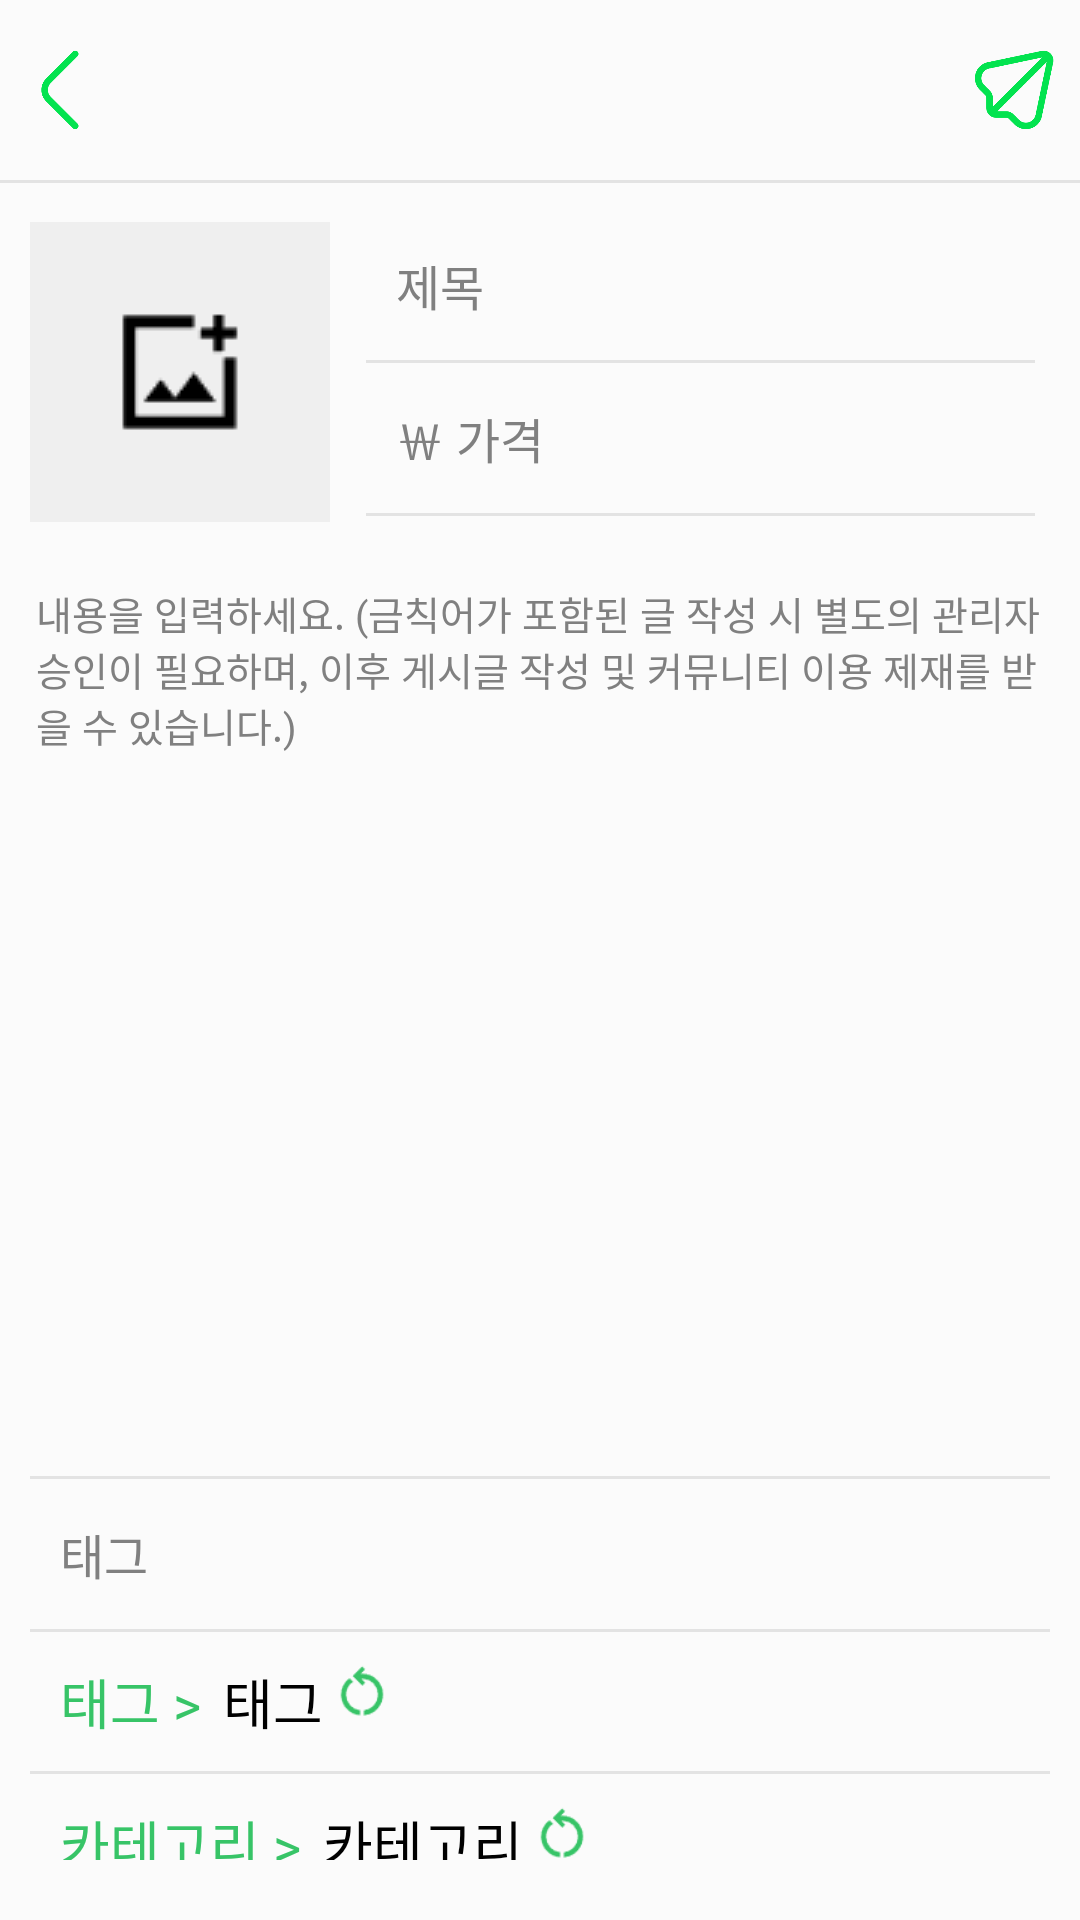

Icons on this 1080px x 1920px Android screen, each with the point to tap as (x,y):
backbtn: (60,90)
photo: (180,372)
resetbtn: (362,1691), (562,1833)
sendbtn: (1014,90)
